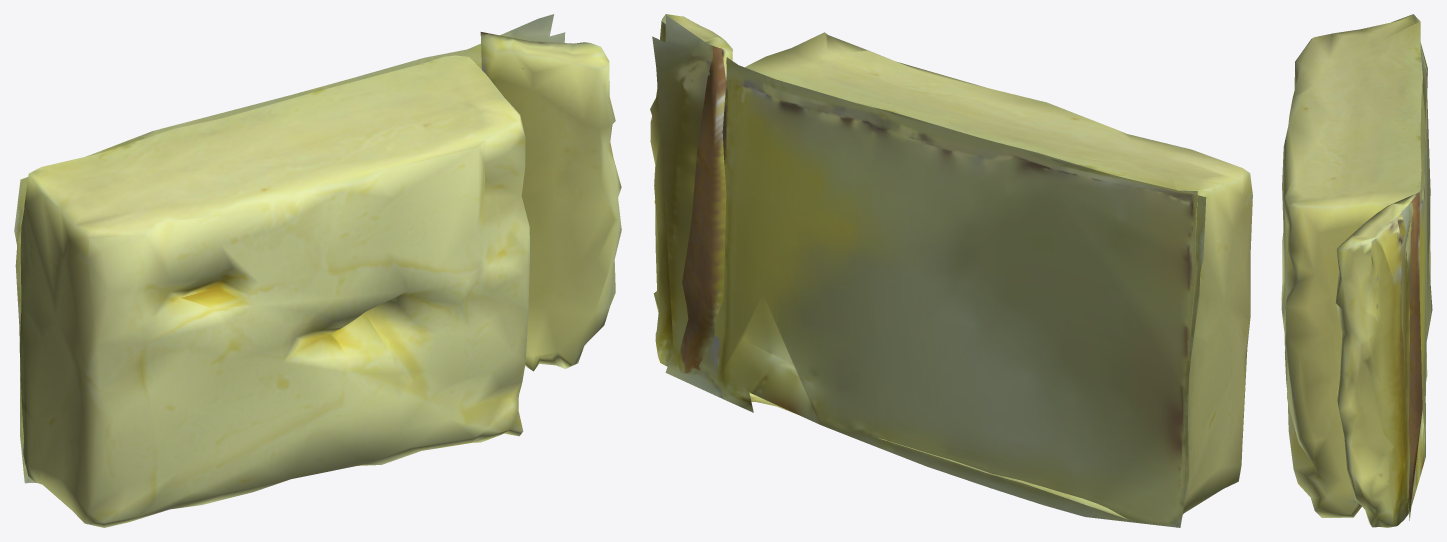
Rendered from butter.fbx.
3 views of the same model, side by side, from view 1: azimuth 30°, elevation 25°; view 2: azimuth 150°, elevation 25°; view 3: azimuth 270°, elevation 25° (orthographic). The views are drawn at different scales.
Parts seen in each view (by area): view 1: PB121_Butter_Mid; view 2: PB121_Butter_Mid; view 3: PB121_Butter_Mid.
Part boxes in pixels (left/top/right/bottom): PB121_Butter_Mid: left=14, top=14, right=621, bottom=527; PB121_Butter_Mid: left=650, top=14, right=1252, bottom=527; PB121_Butter_Mid: left=1281, top=14, right=1432, bottom=527.
Size of the model in its own units: 600 by 379 by 151.
